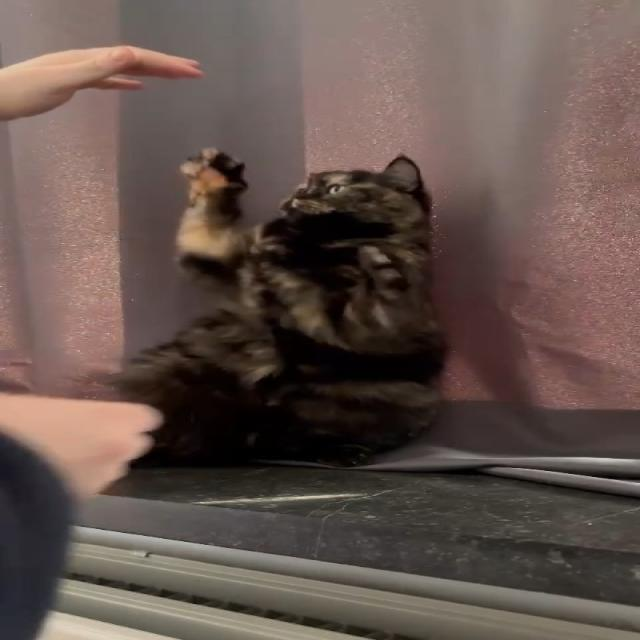authorized: (104, 150, 603, 468)
